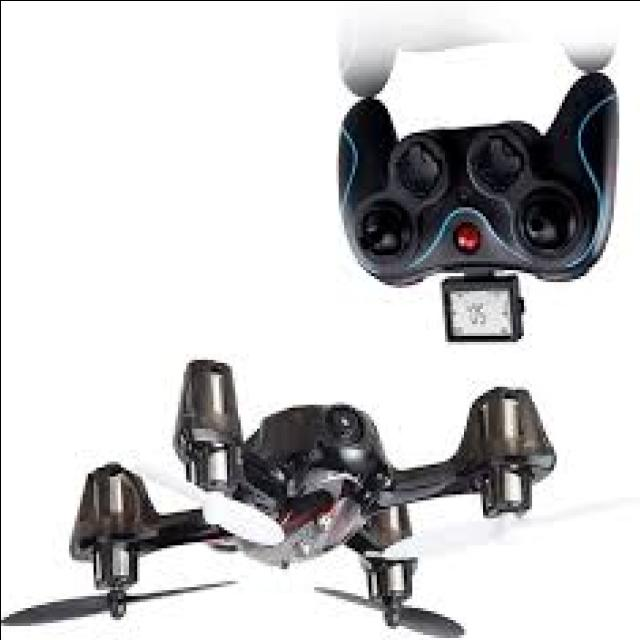drone: (27, 337, 594, 640)
